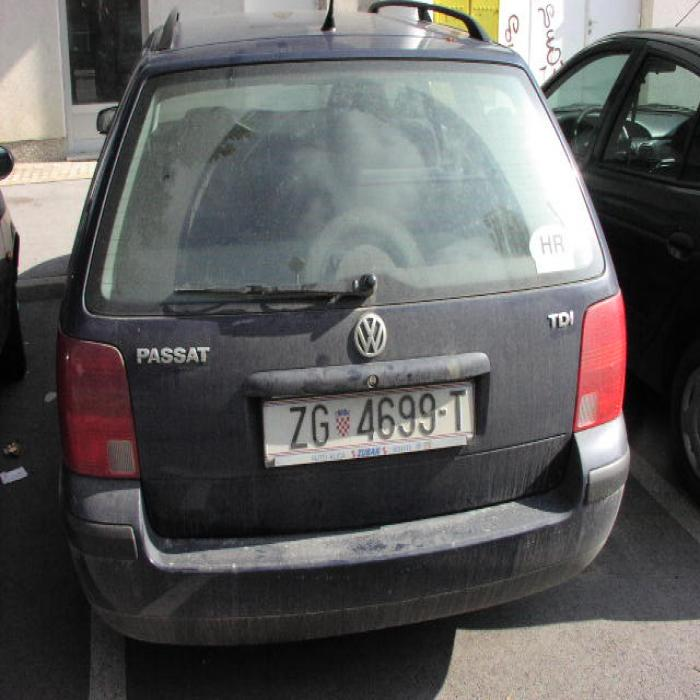number_plate: (259, 388, 472, 445)
